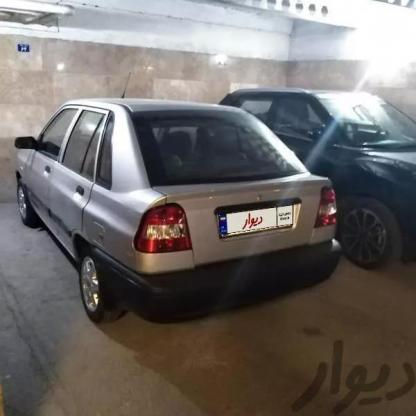Car: (0, 100, 343, 345), (201, 75, 416, 281)
